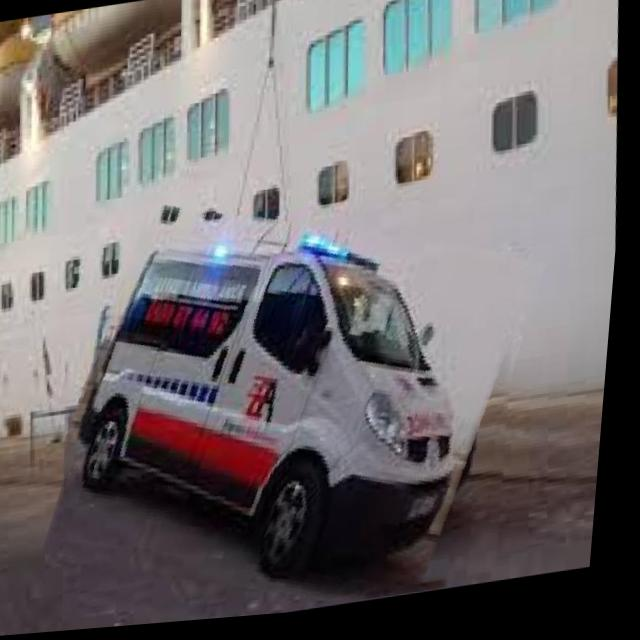ambulance: (45, 179, 556, 634)
